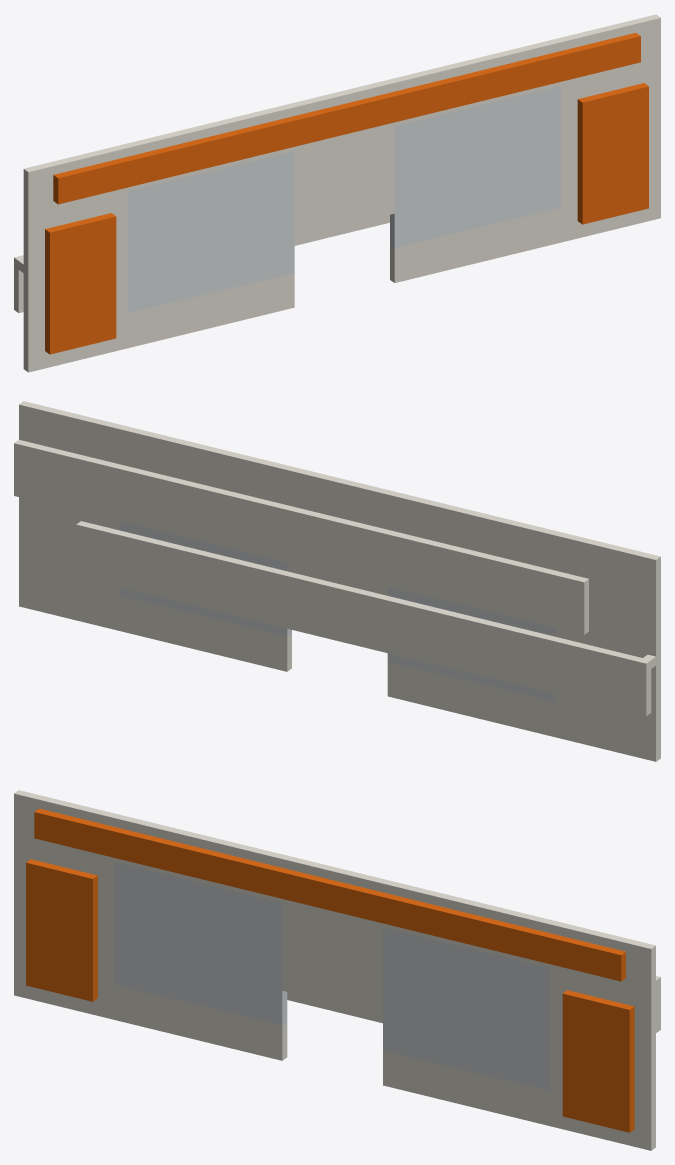
The model's file is eclipse_glasses.glb.
3 views of the same model, one above another, from view 1: azimuth 30°, elevation 25°; view 2: azimuth 150°, elevation 25°; view 3: azimuth 330°, elevation 25° (orthographic).
Parts seen in each view (by area): view 1: eclipse_glasses:compound; view 2: eclipse_glasses:compound; view 3: eclipse_glasses:compound.
Boxes of the visible parts, x1,y1,x2,y2 form: eclipse_glasses:compound: (14, 14, 660, 372); eclipse_glasses:compound: (14, 401, 660, 761); eclipse_glasses:compound: (14, 790, 660, 1150).
Bounding box in the file's own units: 0.152 × 0.046 × 0.008.
